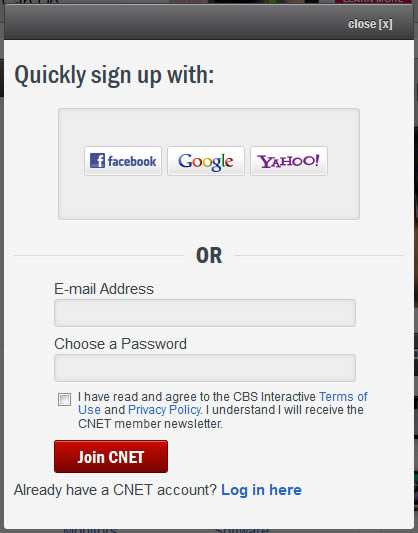_form_: (2, 98, 418, 515)
button: (55, 440, 170, 474), (250, 146, 330, 176), (85, 145, 163, 175), (167, 146, 246, 175)
checkbox: (56, 391, 74, 408)
checkbox_with_label: (53, 389, 369, 415)
field: (52, 351, 357, 383), (51, 296, 357, 327)
field_with_label: (49, 281, 360, 329), (49, 337, 359, 385)
